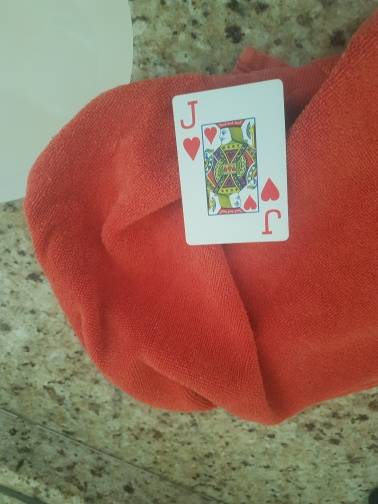jack: (172, 79, 291, 243)
